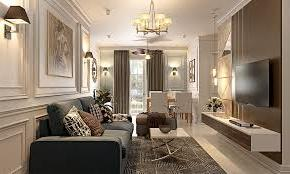TV: (233, 57, 274, 109)
chair: (135, 113, 180, 133), (169, 92, 191, 124), (168, 87, 187, 115), (150, 94, 169, 121), (148, 89, 162, 110)
console: (199, 111, 280, 150)
door: (126, 54, 147, 113)
light: (132, 0, 174, 35), (0, 5, 31, 37), (81, 51, 96, 65), (144, 37, 152, 63), (211, 67, 219, 88), (101, 65, 109, 79), (171, 65, 177, 80)
sofa: (29, 96, 133, 174)
table: (150, 127, 190, 160), (145, 95, 190, 120)
